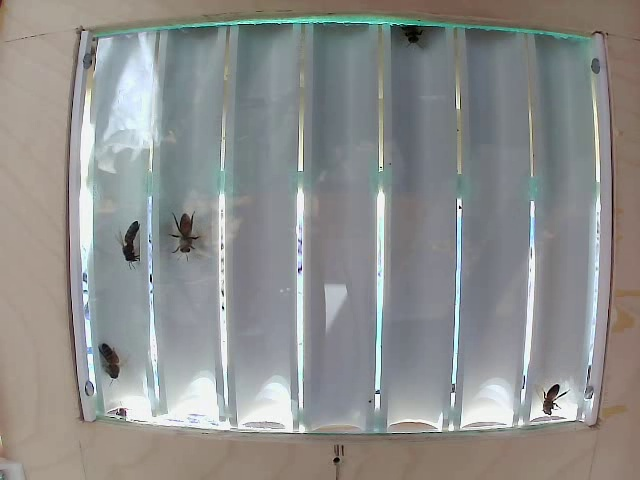bee: (85, 321, 125, 380), (532, 370, 579, 420), (166, 209, 214, 256), (114, 219, 149, 264)
